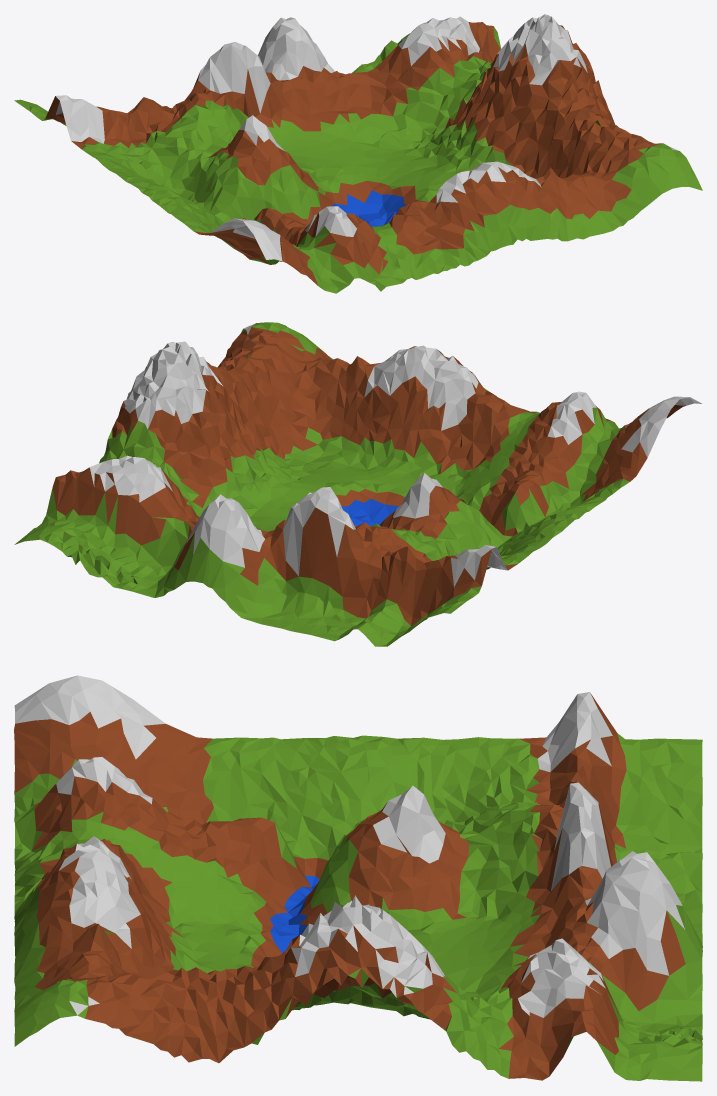
File: landscape.obj
3 views of the same model, one above another, from view 1: azimuth 30°, elevation 25°; view 2: azimuth 150°, elevation 25°; view 3: azimuth 270°, elevation 25° (orthographic). The views are drawn at different scales.
Visible parts, largest first — view 1: Grid; view 2: Grid; view 3: Grid.
Boxes of the visible parts, x1=… form: Grid: x1=14, y1=14, x2=702, y2=293; Grid: x1=14, y1=322, x2=701, y2=646; Grid: x1=14, y1=675, x2=702, y2=1081.
Bounding box in the file's own units: 20.07 × 7.07 × 20.04.
